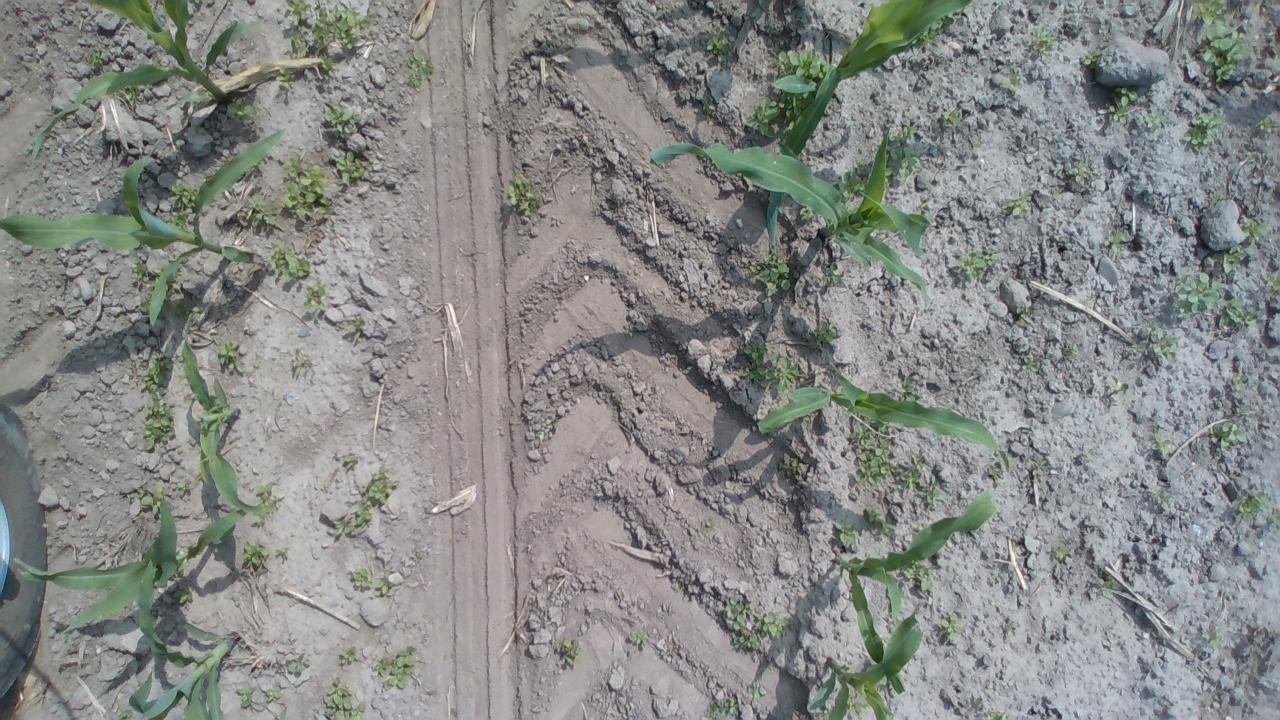Maize: (0, 131, 290, 330), (644, 126, 932, 308), (765, 0, 974, 248), (30, 0, 266, 163), (834, 485, 999, 692), (16, 498, 250, 639), (757, 369, 1014, 477), (186, 313, 276, 515), (133, 557, 240, 720), (806, 618, 923, 720)
Weeds: (745, 91, 817, 141), (139, 350, 175, 449), (281, 154, 333, 221), (848, 416, 896, 487), (1197, 24, 1250, 88), (740, 340, 801, 393), (354, 465, 398, 529), (311, 4, 369, 52), (745, 248, 799, 296), (1169, 270, 1223, 316), (268, 241, 312, 282), (778, 49, 838, 79), (1183, 110, 1224, 153), (504, 173, 544, 216), (378, 645, 417, 689), (835, 158, 870, 201), (897, 558, 938, 594), (326, 686, 368, 720), (402, 47, 434, 89), (322, 103, 360, 137), (1146, 321, 1178, 361), (172, 298, 205, 336), (241, 542, 289, 568), (960, 246, 996, 280), (214, 340, 248, 376), (1218, 298, 1256, 330), (134, 480, 164, 520), (246, 195, 281, 228), (892, 455, 924, 491), (336, 150, 369, 184), (886, 148, 922, 178), (1110, 87, 1138, 125), (756, 610, 791, 640), (1032, 22, 1056, 64), (1190, 0, 1230, 25), (1210, 422, 1248, 448), (1212, 246, 1246, 274), (1234, 492, 1266, 521), (864, 505, 892, 538), (280, 0, 314, 27), (226, 99, 257, 128), (724, 596, 752, 628), (1003, 190, 1033, 218), (704, 697, 740, 720), (887, 124, 919, 149), (255, 480, 284, 507), (302, 282, 328, 312), (846, 687, 871, 718), (834, 520, 860, 548), (172, 183, 201, 208), (918, 481, 945, 507), (237, 686, 264, 712), (896, 375, 922, 402), (809, 321, 835, 347), (706, 35, 730, 63), (1104, 228, 1128, 255), (560, 638, 584, 665), (939, 613, 962, 641), (766, 22, 790, 48), (1242, 217, 1264, 245), (1106, 375, 1132, 397), (776, 461, 806, 480), (286, 31, 306, 59), (914, 26, 942, 46), (273, 68, 296, 92), (129, 254, 144, 288), (1070, 160, 1092, 182), (1098, 574, 1120, 596), (136, 288, 154, 314), (1001, 68, 1022, 90), (1082, 46, 1102, 69), (332, 514, 355, 534), (320, 54, 339, 78), (168, 212, 188, 234), (988, 462, 1006, 486), (736, 632, 760, 650), (352, 567, 372, 588), (1152, 429, 1168, 455), (826, 262, 844, 285), (338, 647, 361, 665), (1263, 271, 1280, 295), (1014, 303, 1036, 321), (1256, 118, 1280, 134), (942, 109, 962, 128), (172, 590, 192, 609), (87, 48, 104, 70), (1022, 355, 1042, 373), (342, 318, 364, 334), (124, 84, 140, 105), (630, 630, 648, 648), (1205, 630, 1223, 648), (1054, 544, 1072, 562), (1146, 112, 1164, 129), (749, 685, 768, 701), (1231, 374, 1247, 392), (1032, 462, 1050, 478), (152, 262, 166, 282), (290, 353, 310, 367), (374, 578, 390, 595), (176, 479, 192, 496), (287, 660, 306, 674), (266, 688, 282, 704), (709, 354, 724, 371), (936, 16, 955, 28), (704, 519, 720, 533), (172, 271, 184, 289), (702, 100, 716, 115), (800, 206, 815, 220), (986, 712, 1011, 720), (159, 0, 170, 17), (1236, 405, 1250, 418), (1087, 450, 1102, 461), (343, 455, 353, 470), (1066, 344, 1082, 353), (254, 512, 266, 524), (1207, 191, 1218, 203), (1131, 342, 1143, 353), (1158, 496, 1169, 508), (115, 710, 128, 720), (948, 8, 962, 17), (963, 2, 972, 16), (972, 136, 982, 148), (272, 713, 287, 720), (1008, 623, 1016, 635), (1048, 192, 1061, 199), (623, 329, 633, 337), (196, 62, 204, 72), (1273, 516, 1280, 526), (538, 431, 544, 441), (192, 0, 200, 4)
